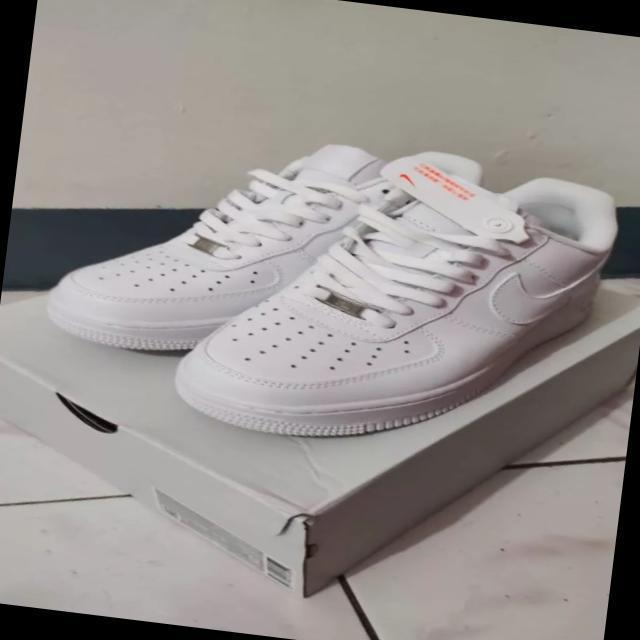nike original air force: (166, 129, 640, 473), (34, 112, 438, 386)
